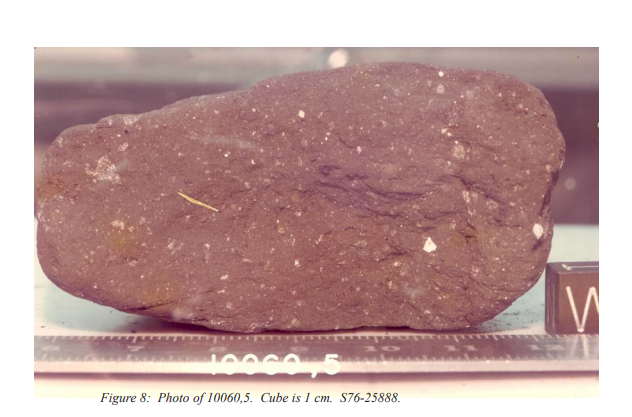Breccia: (50, 63, 544, 325), (34, 114, 525, 269)
